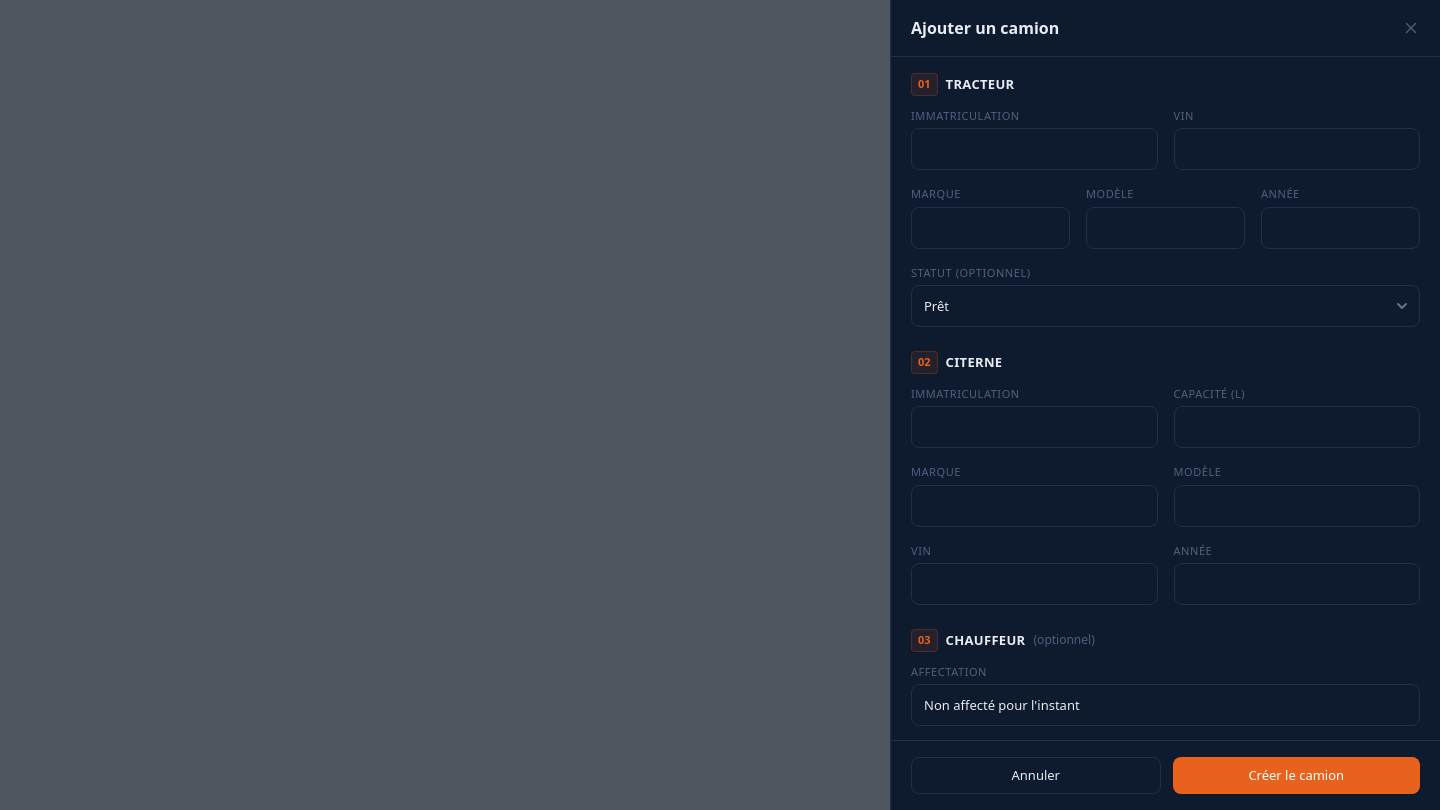
Test: AddTruckDrawer › when open › submission › shows the API error and does not close on failure
Type "NEW-001" into the field labelled "Immatriculation" below "Tracteur" at (1034, 149), box [911,128,1158,170]
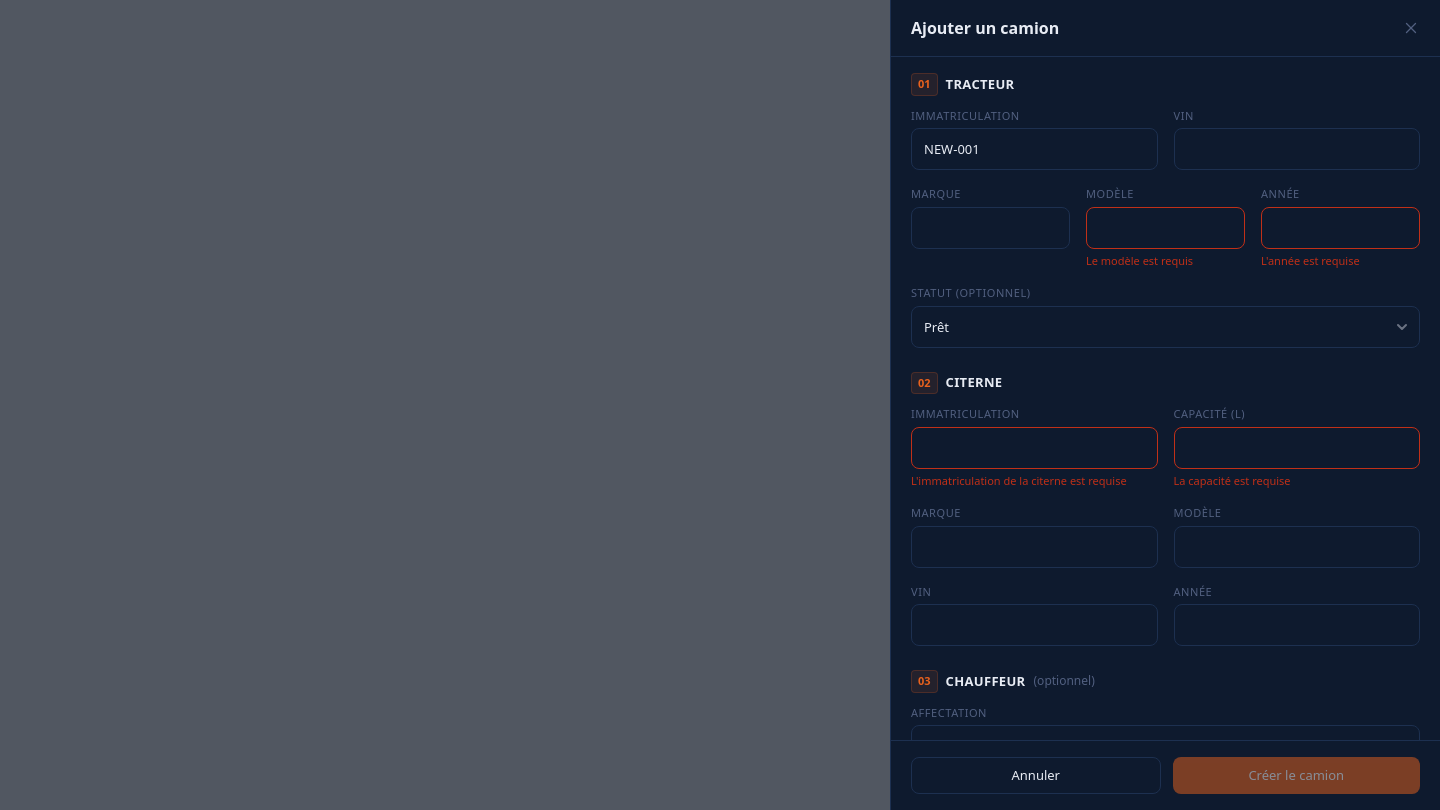
Type "FH" into the field labelled "Modèle" below "Tracteur" at (1166, 228), box [1086,206,1245,248]
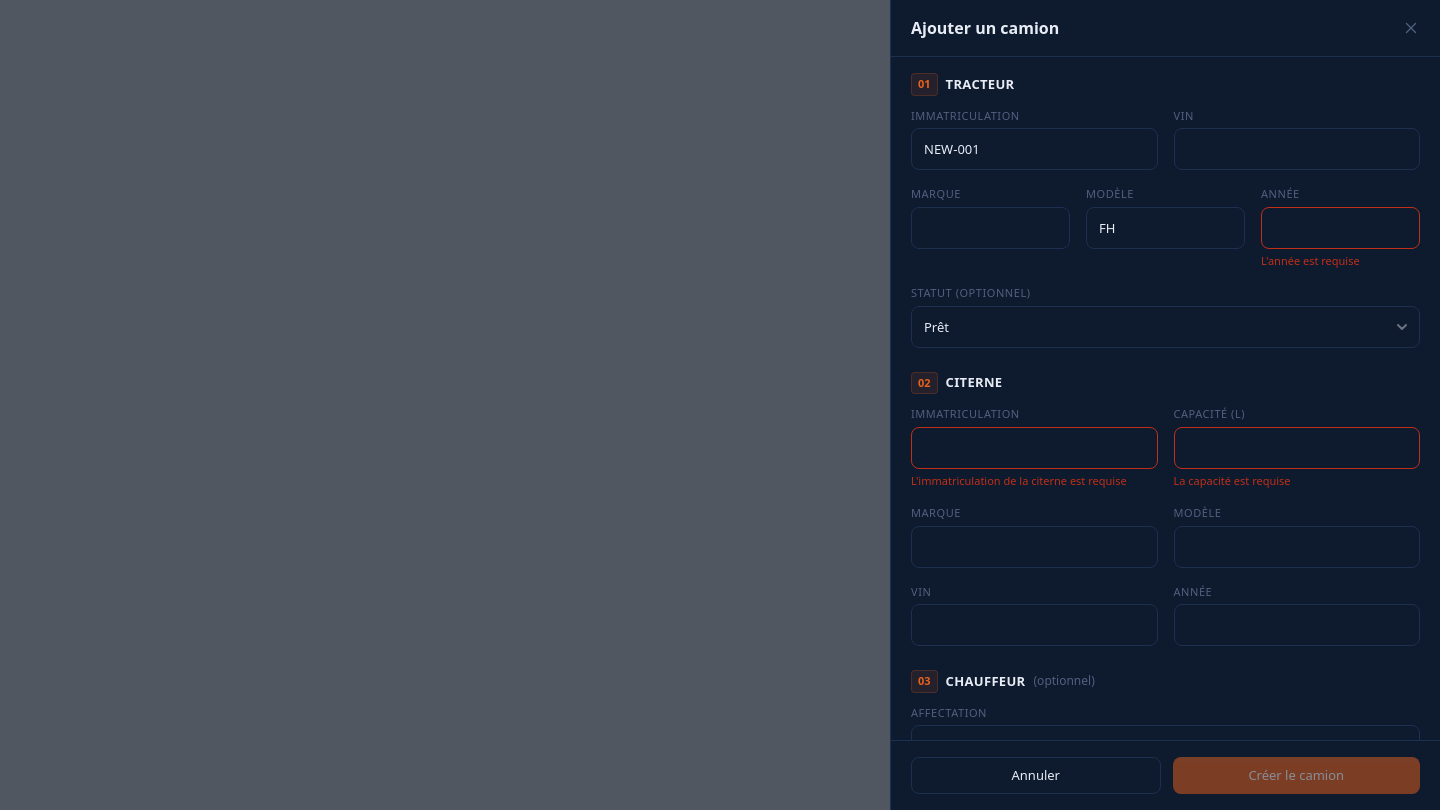
Type "2024" into the number field labelled "Année" below "Tracteur" at (1340, 228), box [1261,206,1420,248]
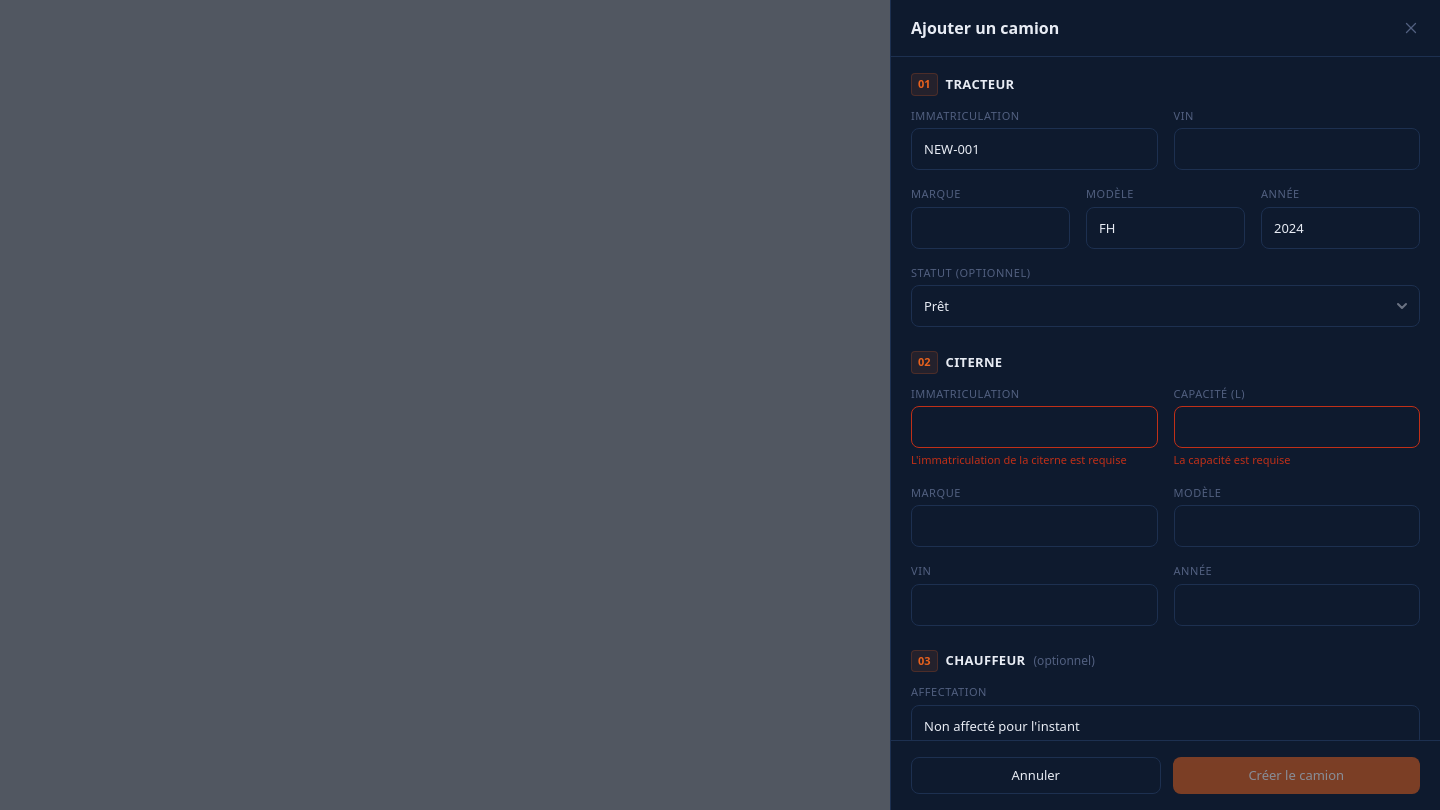
Type "TK-001" into the field labelled "Immatriculation" below "Capacité (L)" at (1034, 427), box [911,406,1158,448]
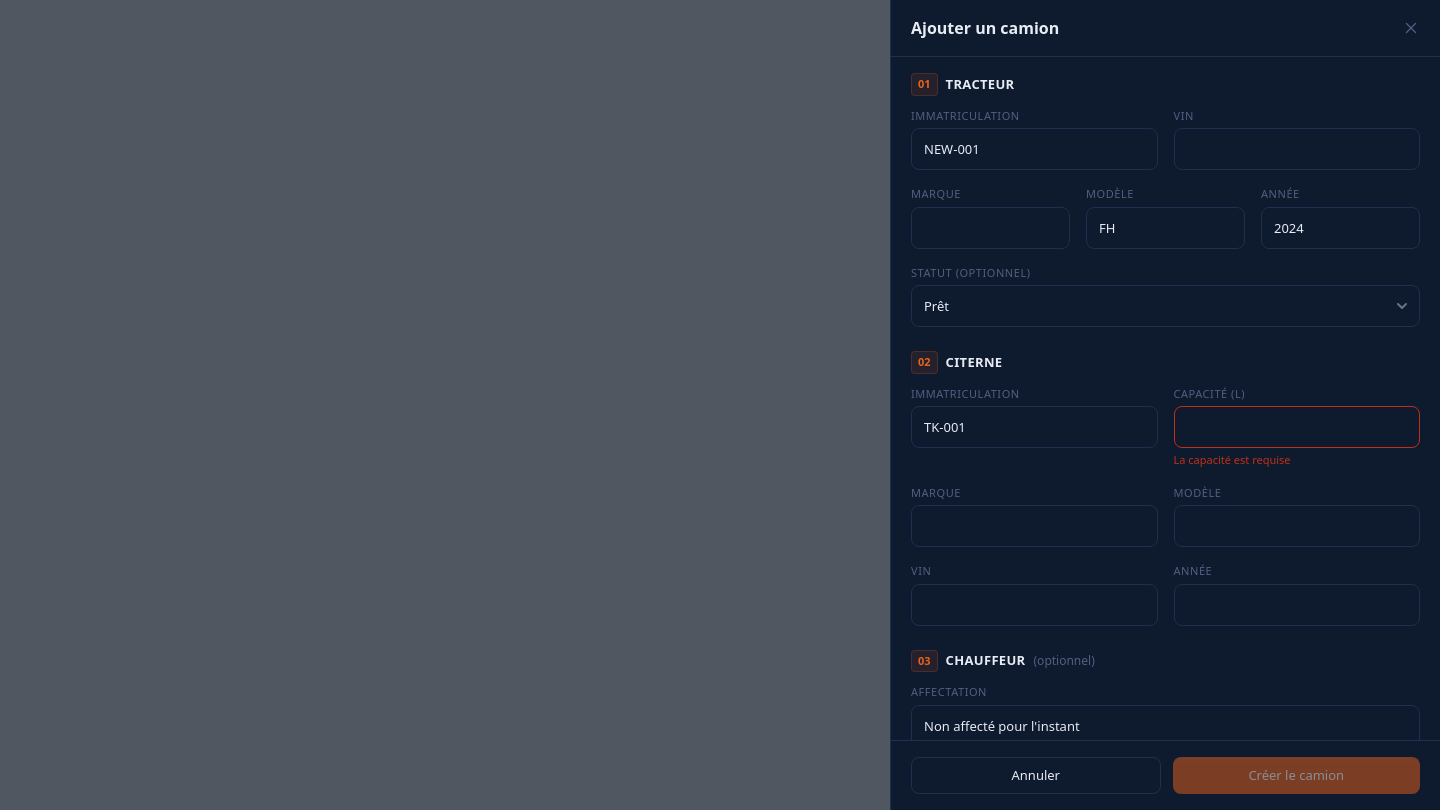
Type "30000" into the number field labelled "Capacité (L)" at (1297, 427), box [1174,406,1420,448]
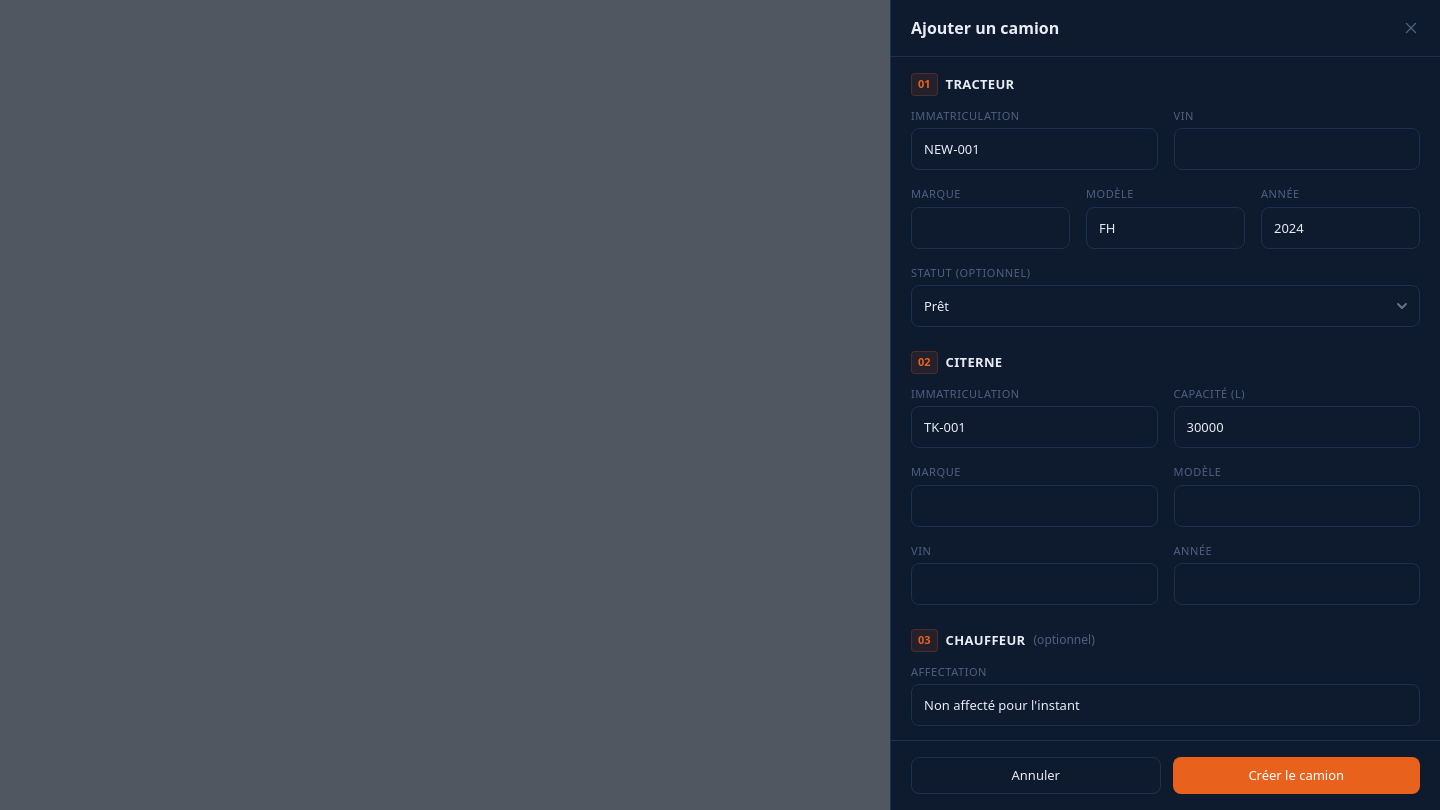
Click the button "Créer le camion" at (1296, 775), box [1172,756,1420,794]
(page scrolled)
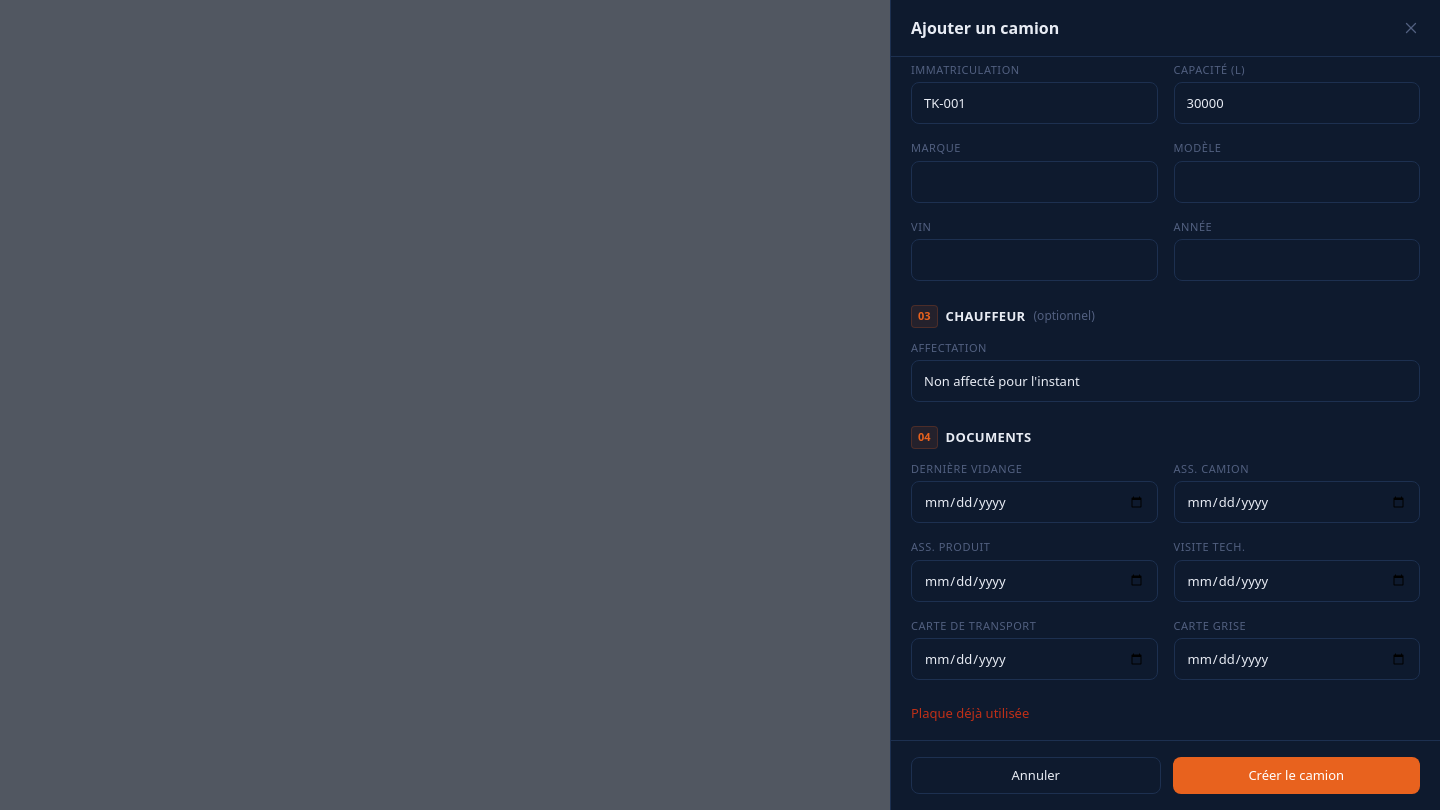
Expected: the text "Plaque déjà utilisée" is shown, [911,704,1029,722]
